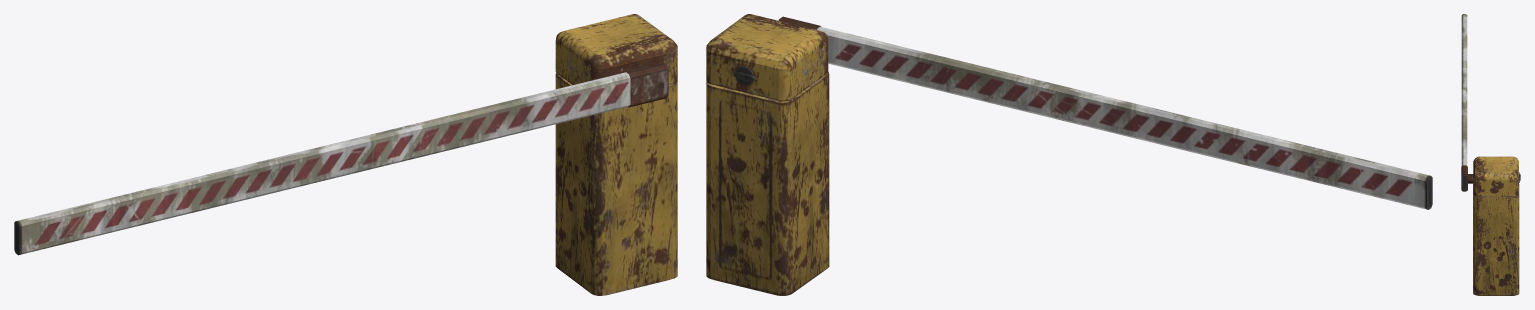
Rendered from road_barrier_single.glb.
The picture shows the model from 3 angles, left to right: view 1: azimuth 30°, elevation 25°; view 2: azimuth 150°, elevation 25°; view 3: azimuth 270°, elevation 25°; orthographic projection. The views are drawn at different scales.
Visible parts, largest first — view 1: road_barrier_single, road_barrier_bar; view 2: road_barrier_single, road_barrier_bar; view 3: road_barrier_single, road_barrier_bar.
Part boxes in pixels (bbox=[...]): road_barrier_single: bbox=[555, 14, 677, 295]; road_barrier_bar: bbox=[14, 62, 668, 255]; road_barrier_single: bbox=[706, 14, 829, 295]; road_barrier_bar: bbox=[778, 16, 1432, 209]; road_barrier_single: bbox=[1473, 156, 1520, 295]; road_barrier_bar: bbox=[1461, 14, 1473, 191].
Bounding box in the file's own units: 3.58 × 1.21 × 0.5384.
1 material, 1 textured.
